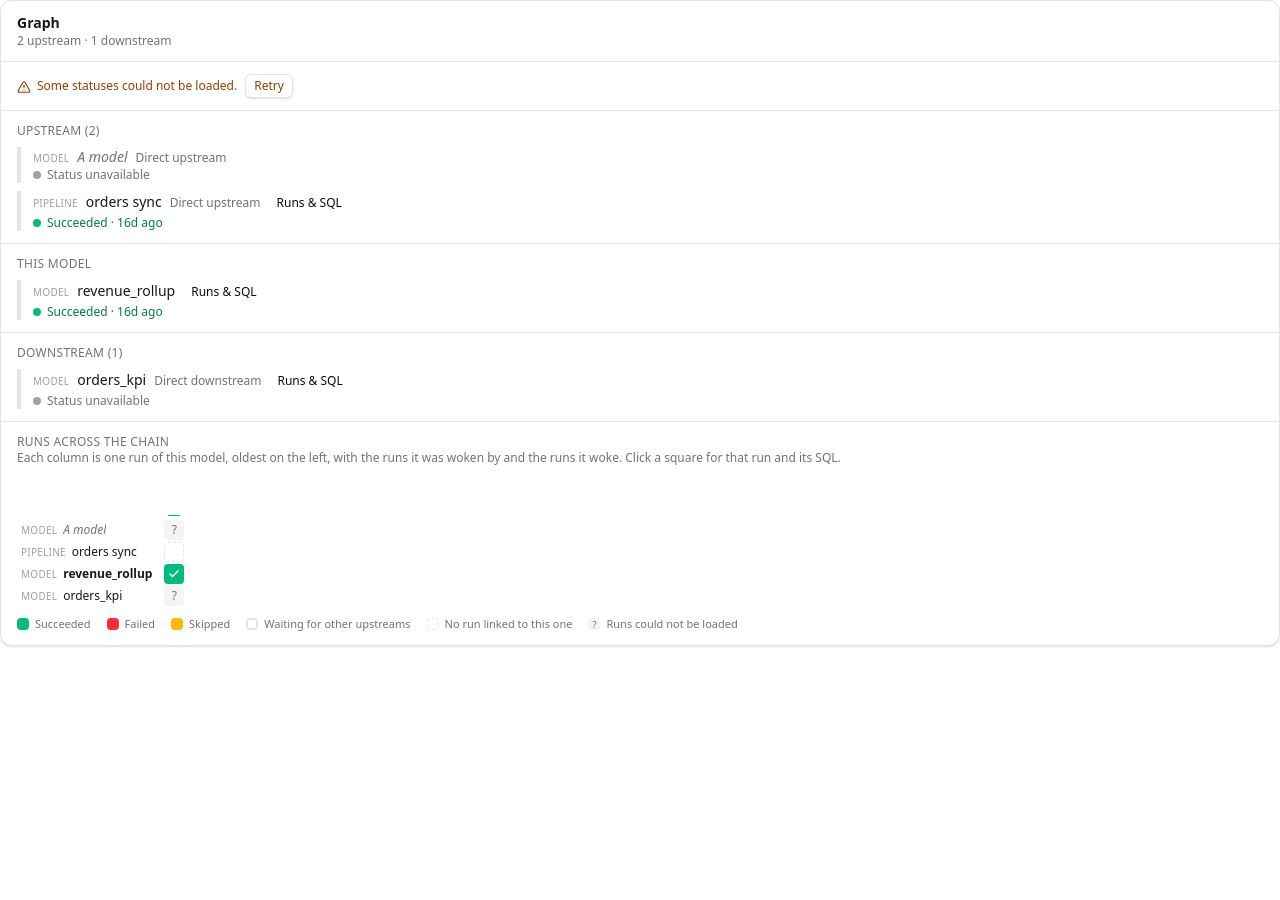
Test: ModelLineageGraph › says which statuses could not be loaded, keeps what its row vouches for, and retries
Expected: the text "Status unavailable" is shown, [33,392,150,409]
Expected: the list item "A model" is shown, [77,147,128,166]
Click the button "Retry". click: [269, 86]
box: [245,74,293,98]
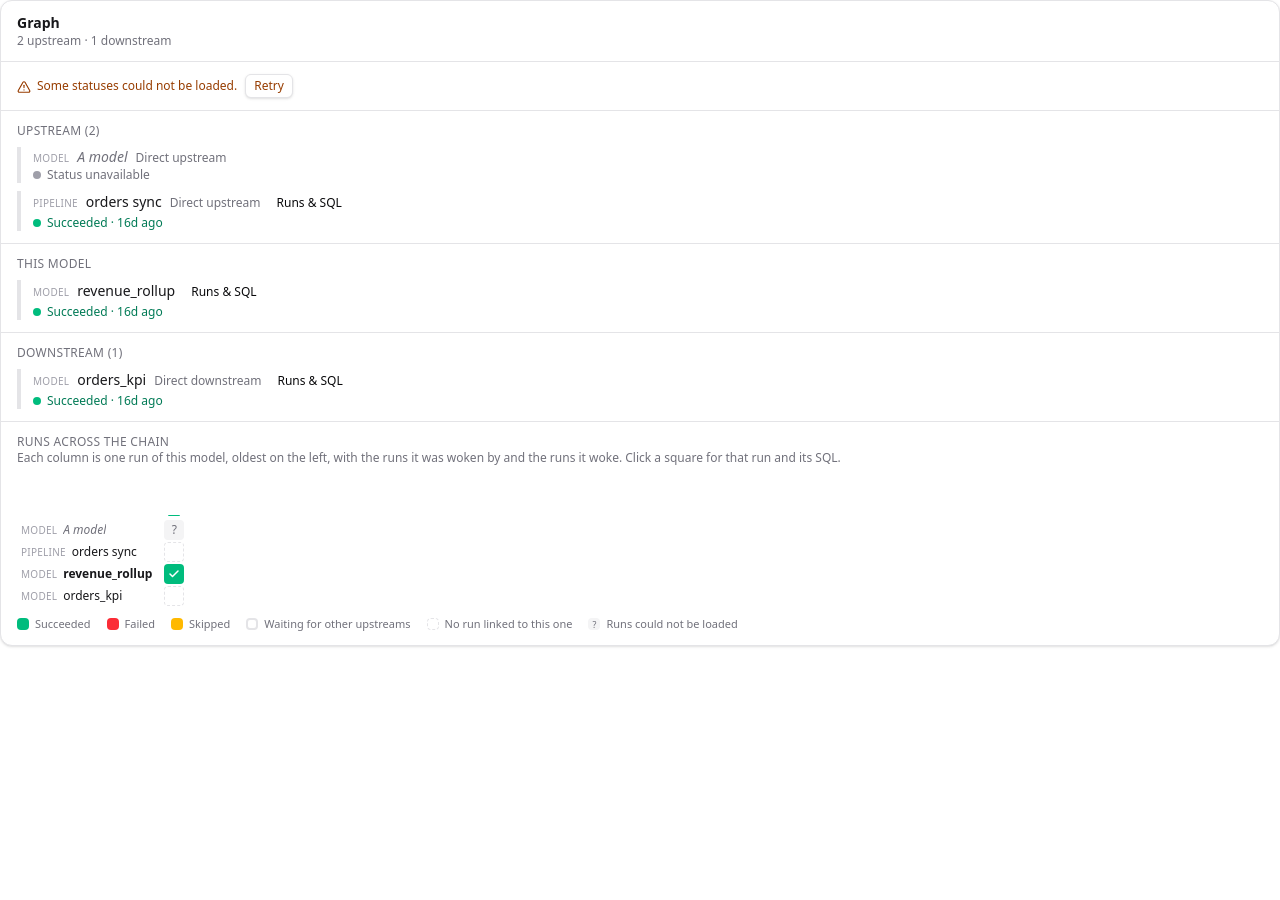
Result: the text "Succeeded · 16d ago" is shown at [33,392,163,409]
